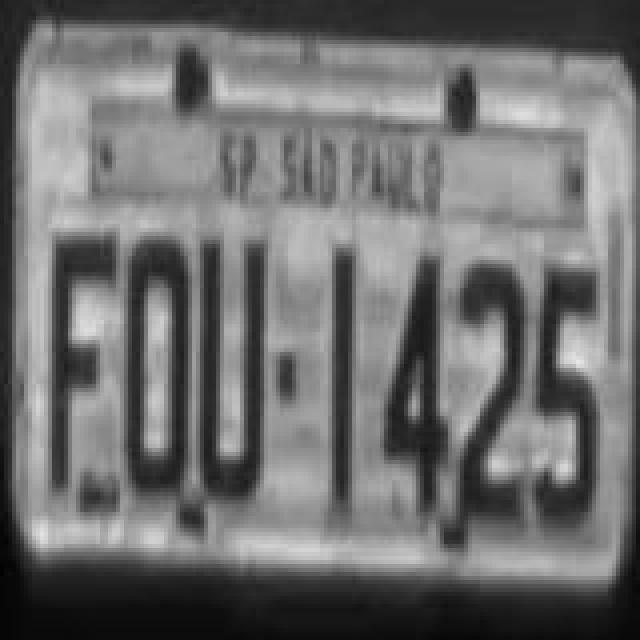1: (328, 242, 360, 510)
2: (458, 256, 526, 528)
4: (382, 250, 450, 518)
5: (532, 262, 604, 530)
F: (48, 234, 120, 502)
O: (126, 232, 194, 504)
U: (194, 230, 270, 506)
